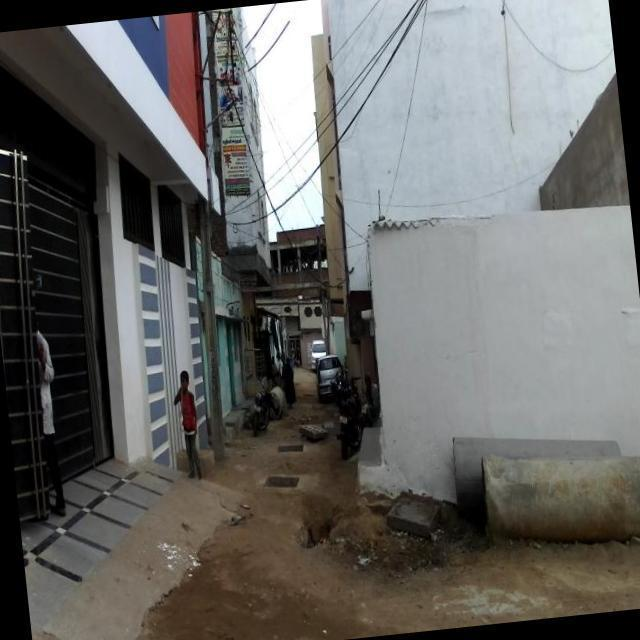Pothole: (298, 414, 328, 442)
